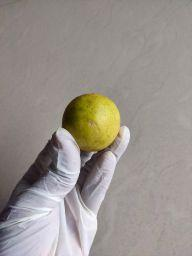lemon: (60, 90, 122, 155)
